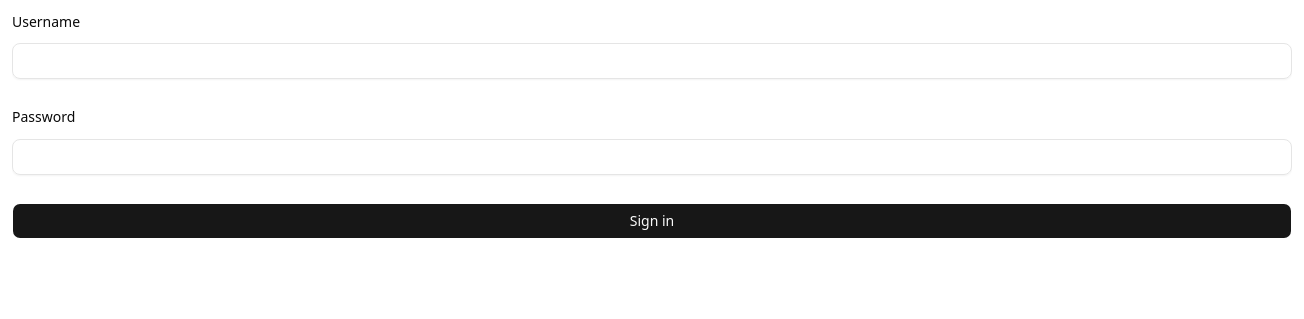
SignInForm › validates required fields without calling the API
Click the button "Sign in": coordinates (652, 220) x1=12 y1=202 x2=1292 y2=238
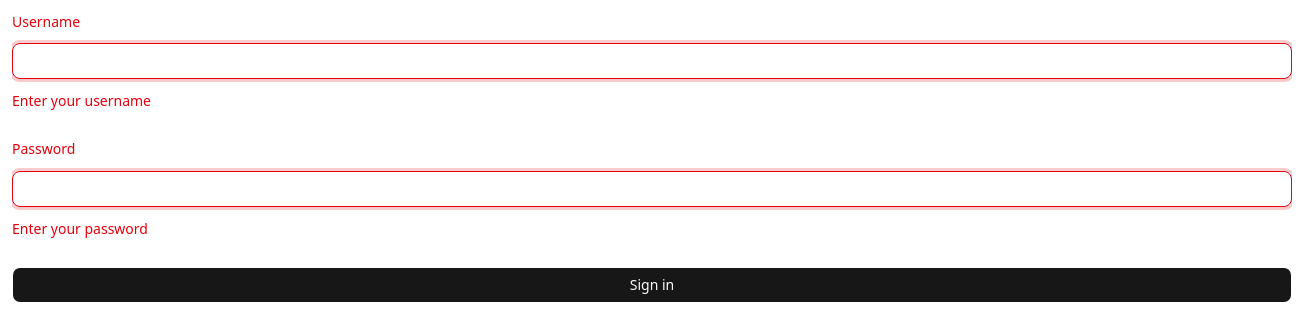
Check: the text "Enter your username" is shown, box x1=12 y1=91 x2=151 y2=110
Check: the text "Enter your password" is shown, box x1=12 y1=218 x2=148 y2=238
